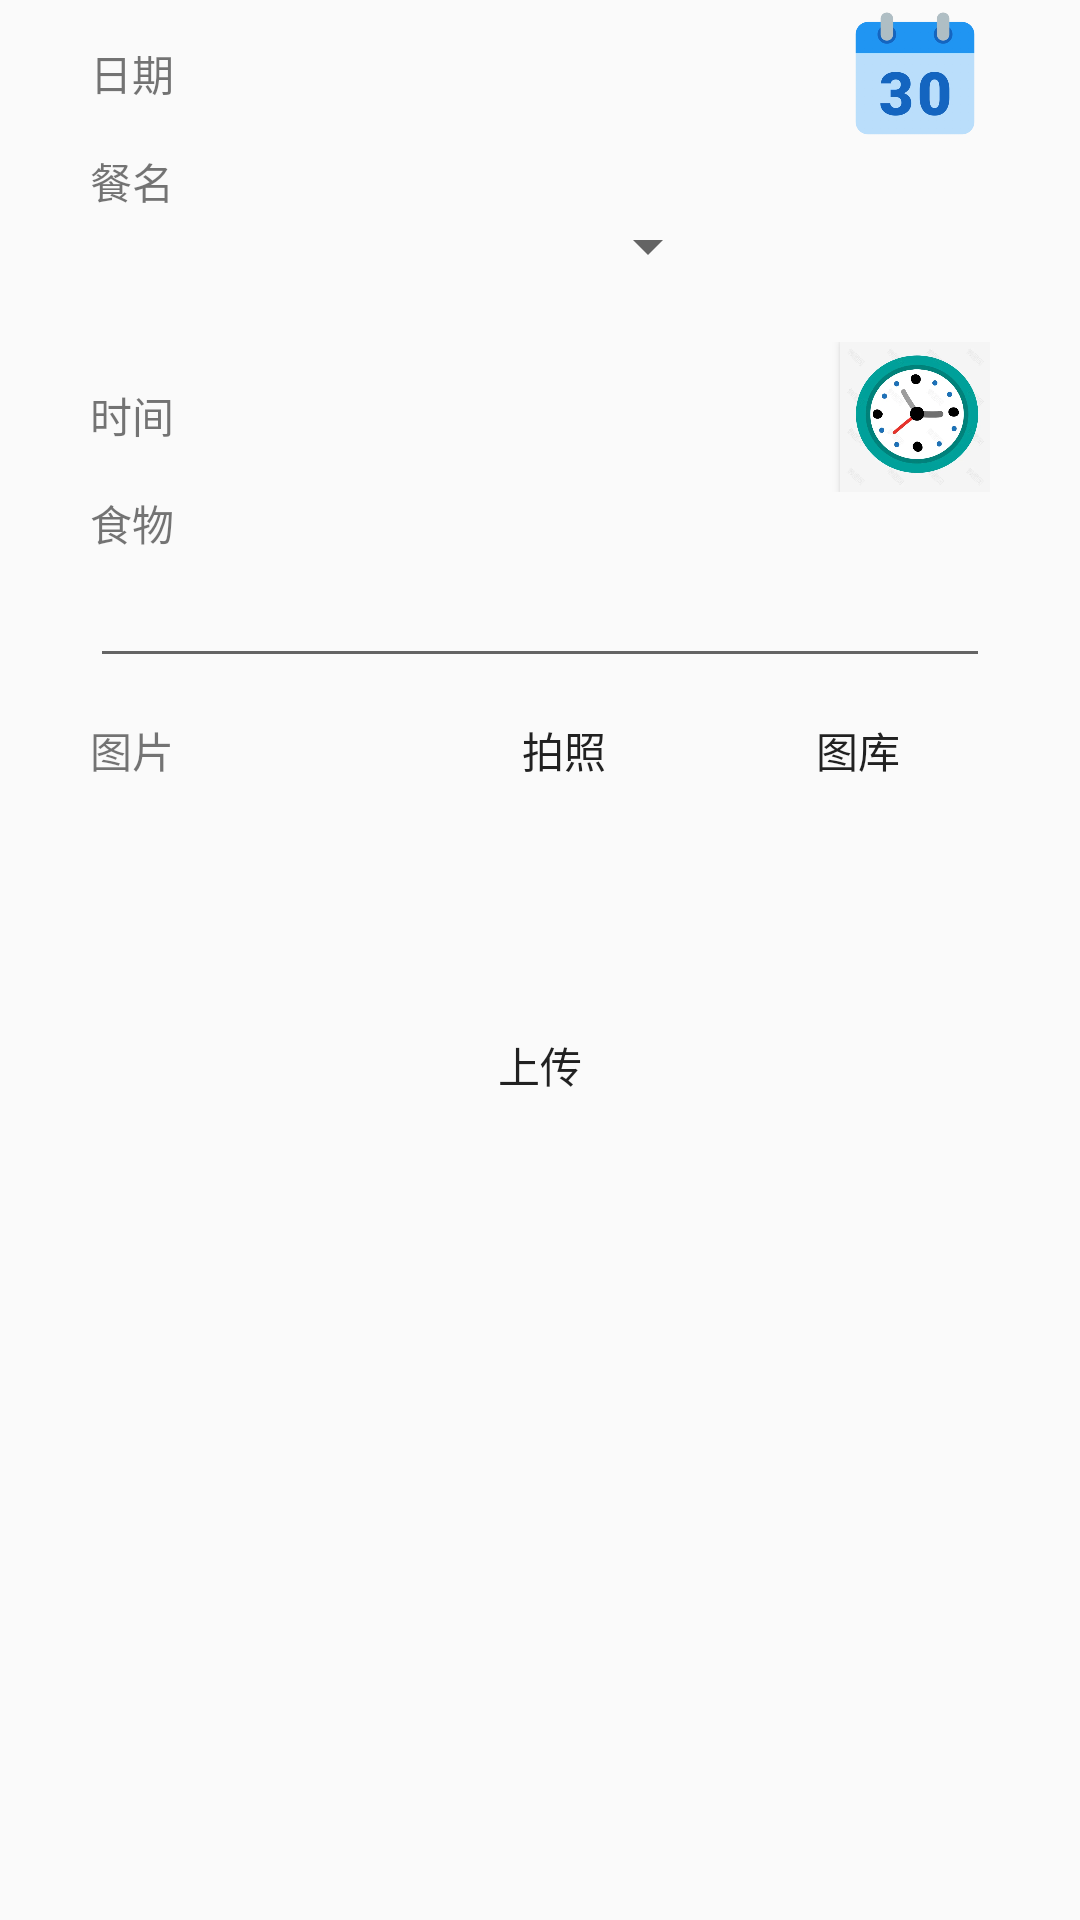

Where icons sit on this 1080x1920 app screen, as (x1, y1, x2, y2):
calendar: (855, 12, 975, 134)
timer: (856, 355, 978, 473)
